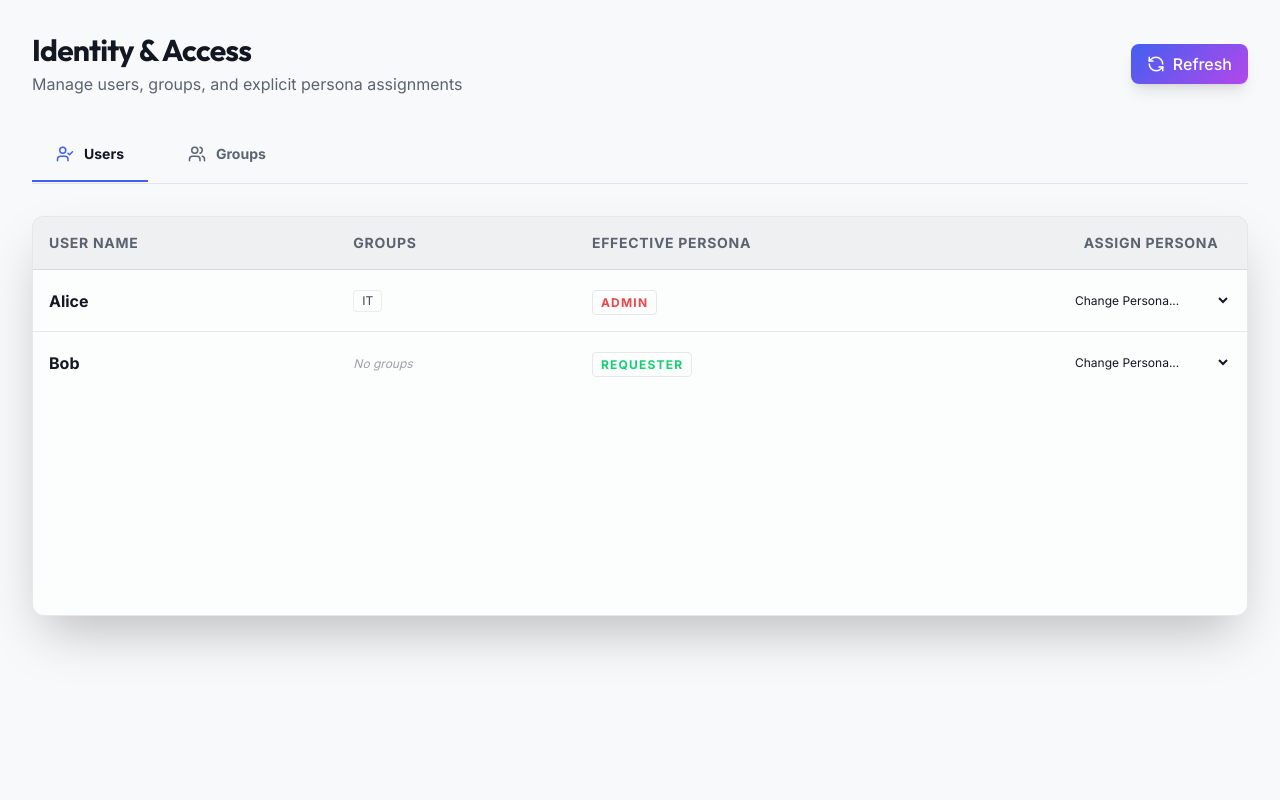
UserGroupManagement › switches to groups tab
Expected: the text "Alice" is shown, [33,270,337,332]
Click the button "Groups".
click(227, 155)  # box [164,128,290,182]
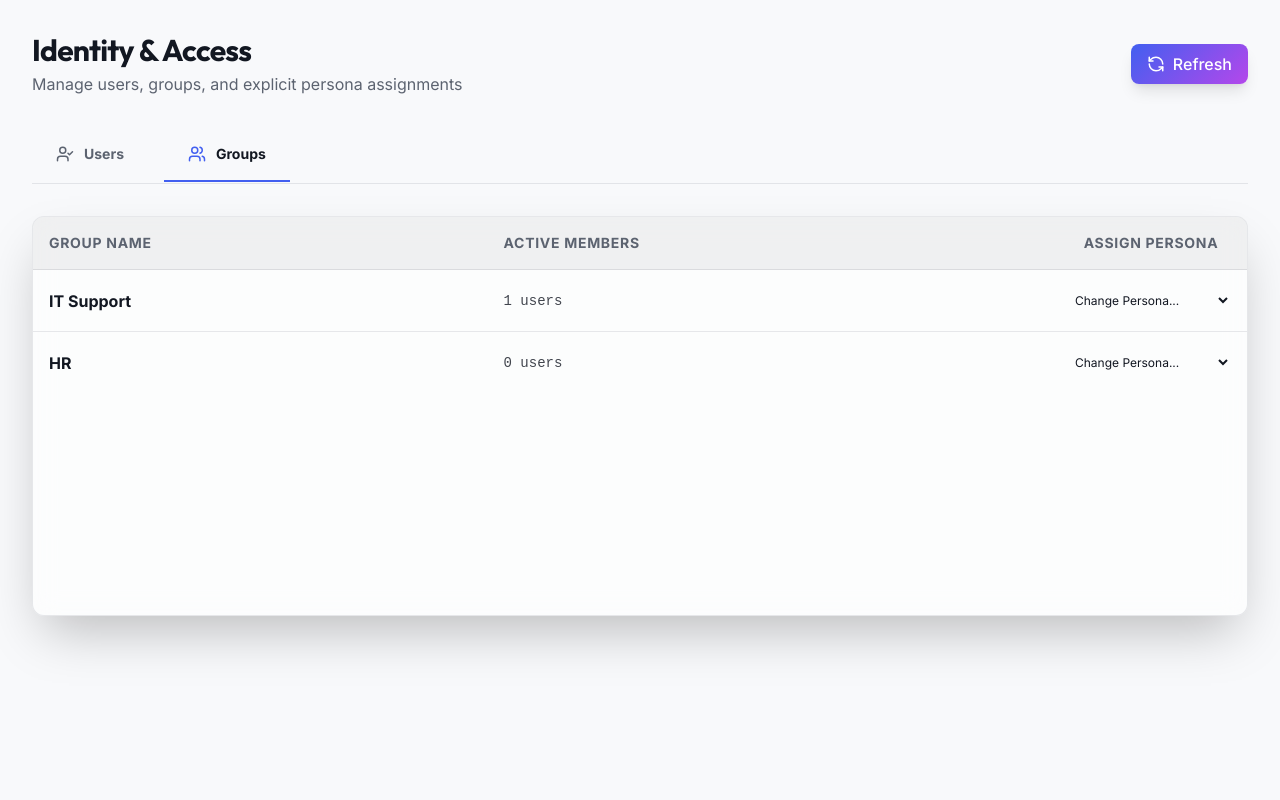
Expected: the text "IT Support" is shown, [33,270,488,332]
Expected: the text "HR" is shown, [33,332,488,393]
Expected: the text "Alice" is gone
